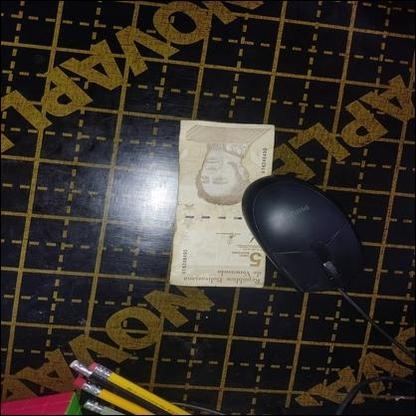vef_front: (170, 120, 274, 286)
